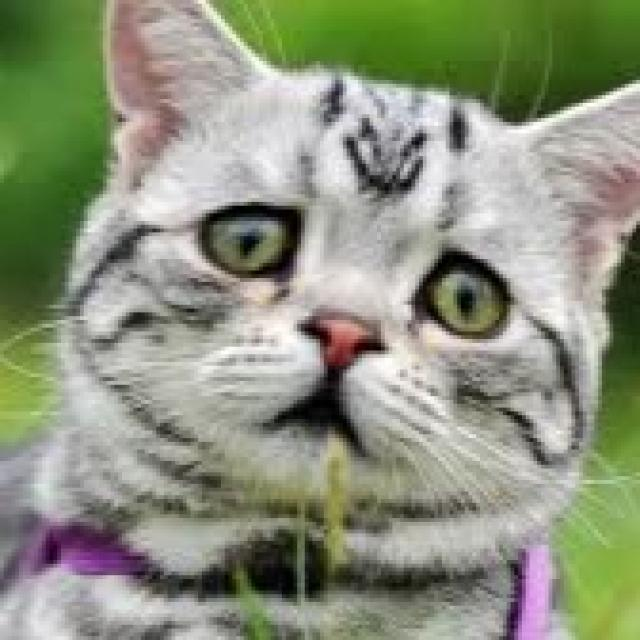Sad: (136, 142, 542, 516)
